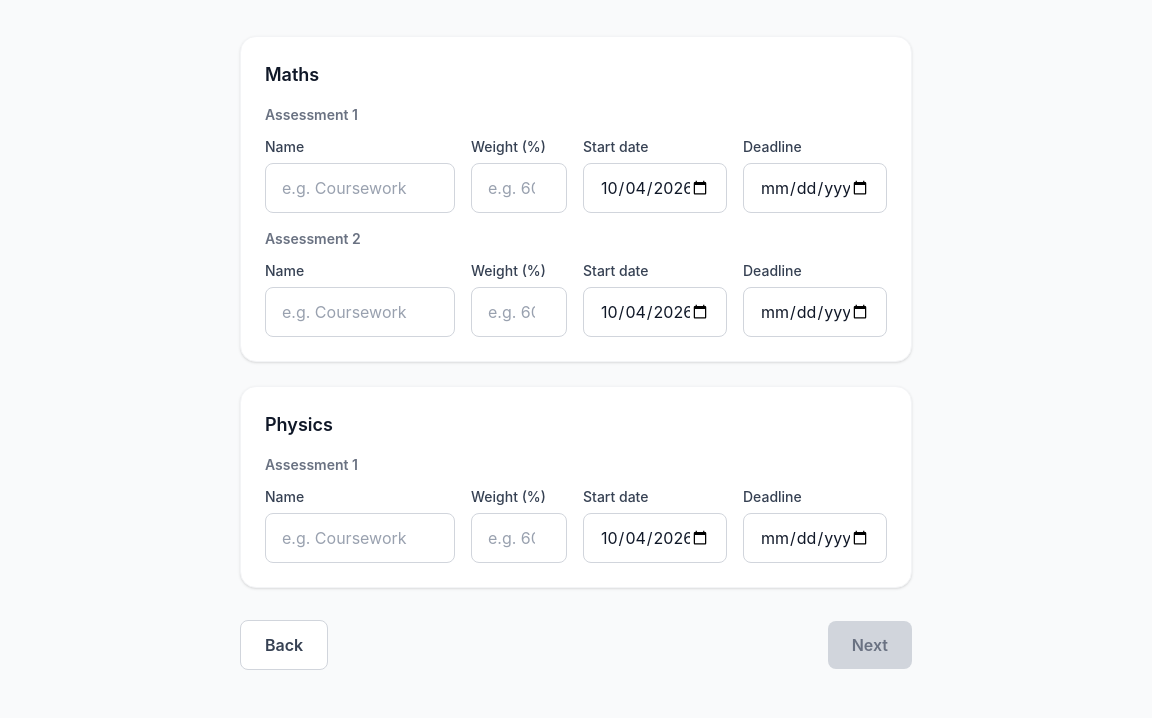
Test: AssessmentDetailsPage › navigates back to module details on Back click
(page scrolled)
Click the link "Back": (284, 645) [240, 620, 328, 670]
(page scrolled)
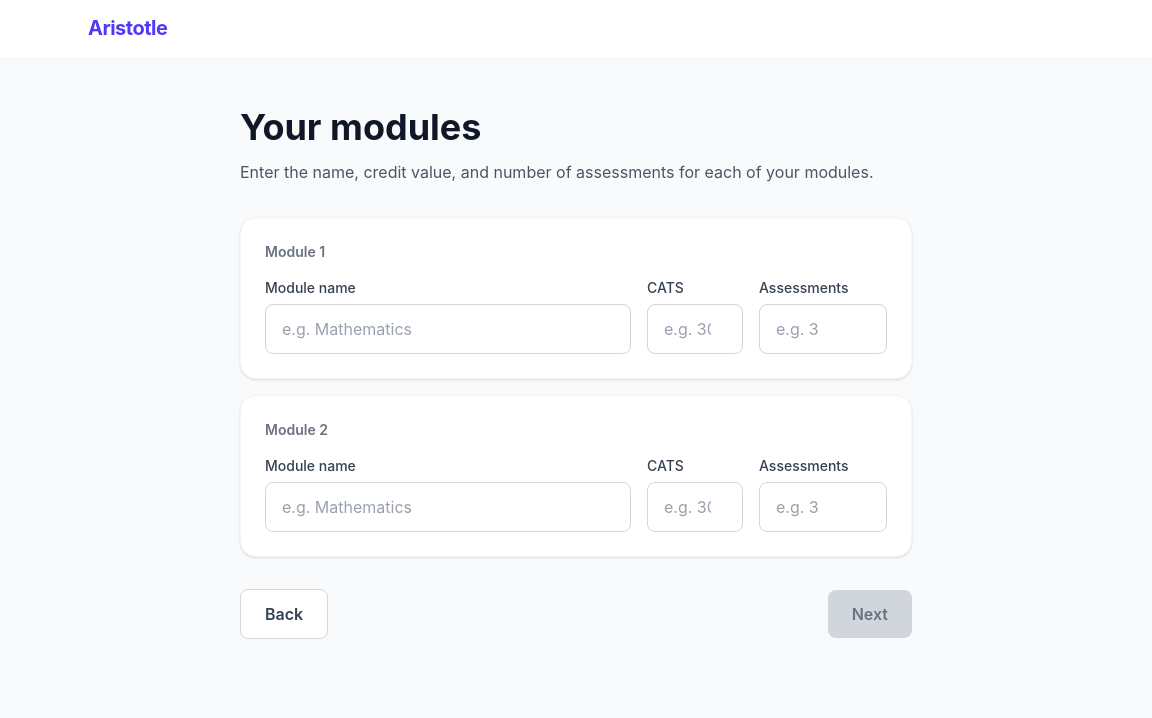
expect the heading "Your modules" is shown: met, box [240, 105, 482, 149]
